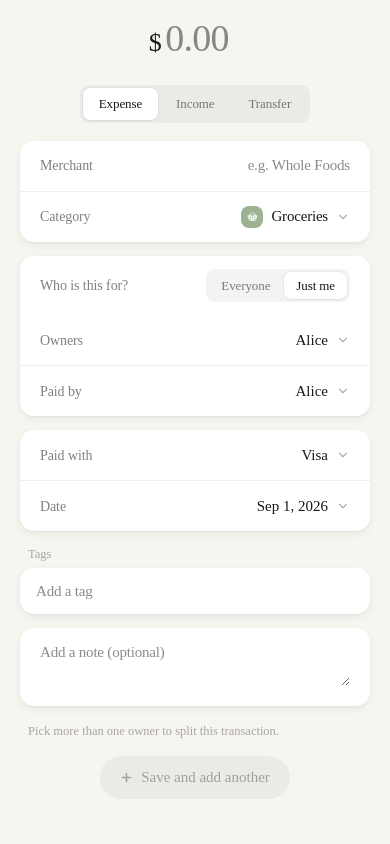
Test: tx form — every picker is the shared accordion row › Paid by is a disclosure row that picks a member and closes
The width and height of the screenshot is (390, 844).
Click the button "Paid by Alice": (61, 391) left=20, top=366, right=370, bottom=416
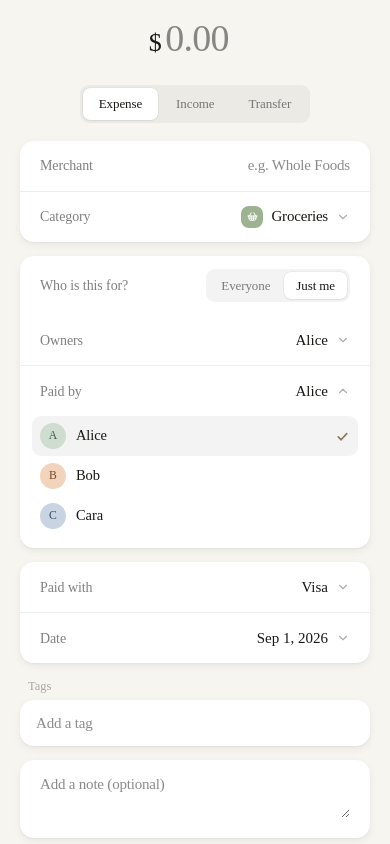
Click the button "B Bob": (53, 476) left=32, top=456, right=358, bottom=496
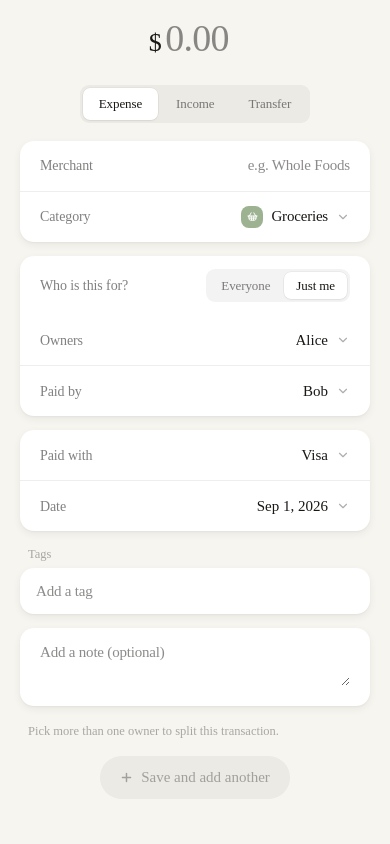
Expected: the button "Paid by Bob" is shown, left=20, top=366, right=370, bottom=416
